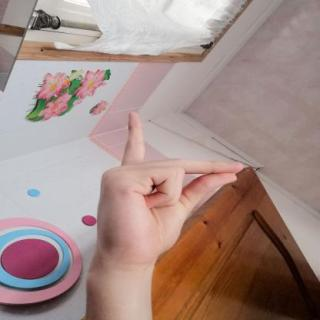TAA: (84, 104, 253, 273)
